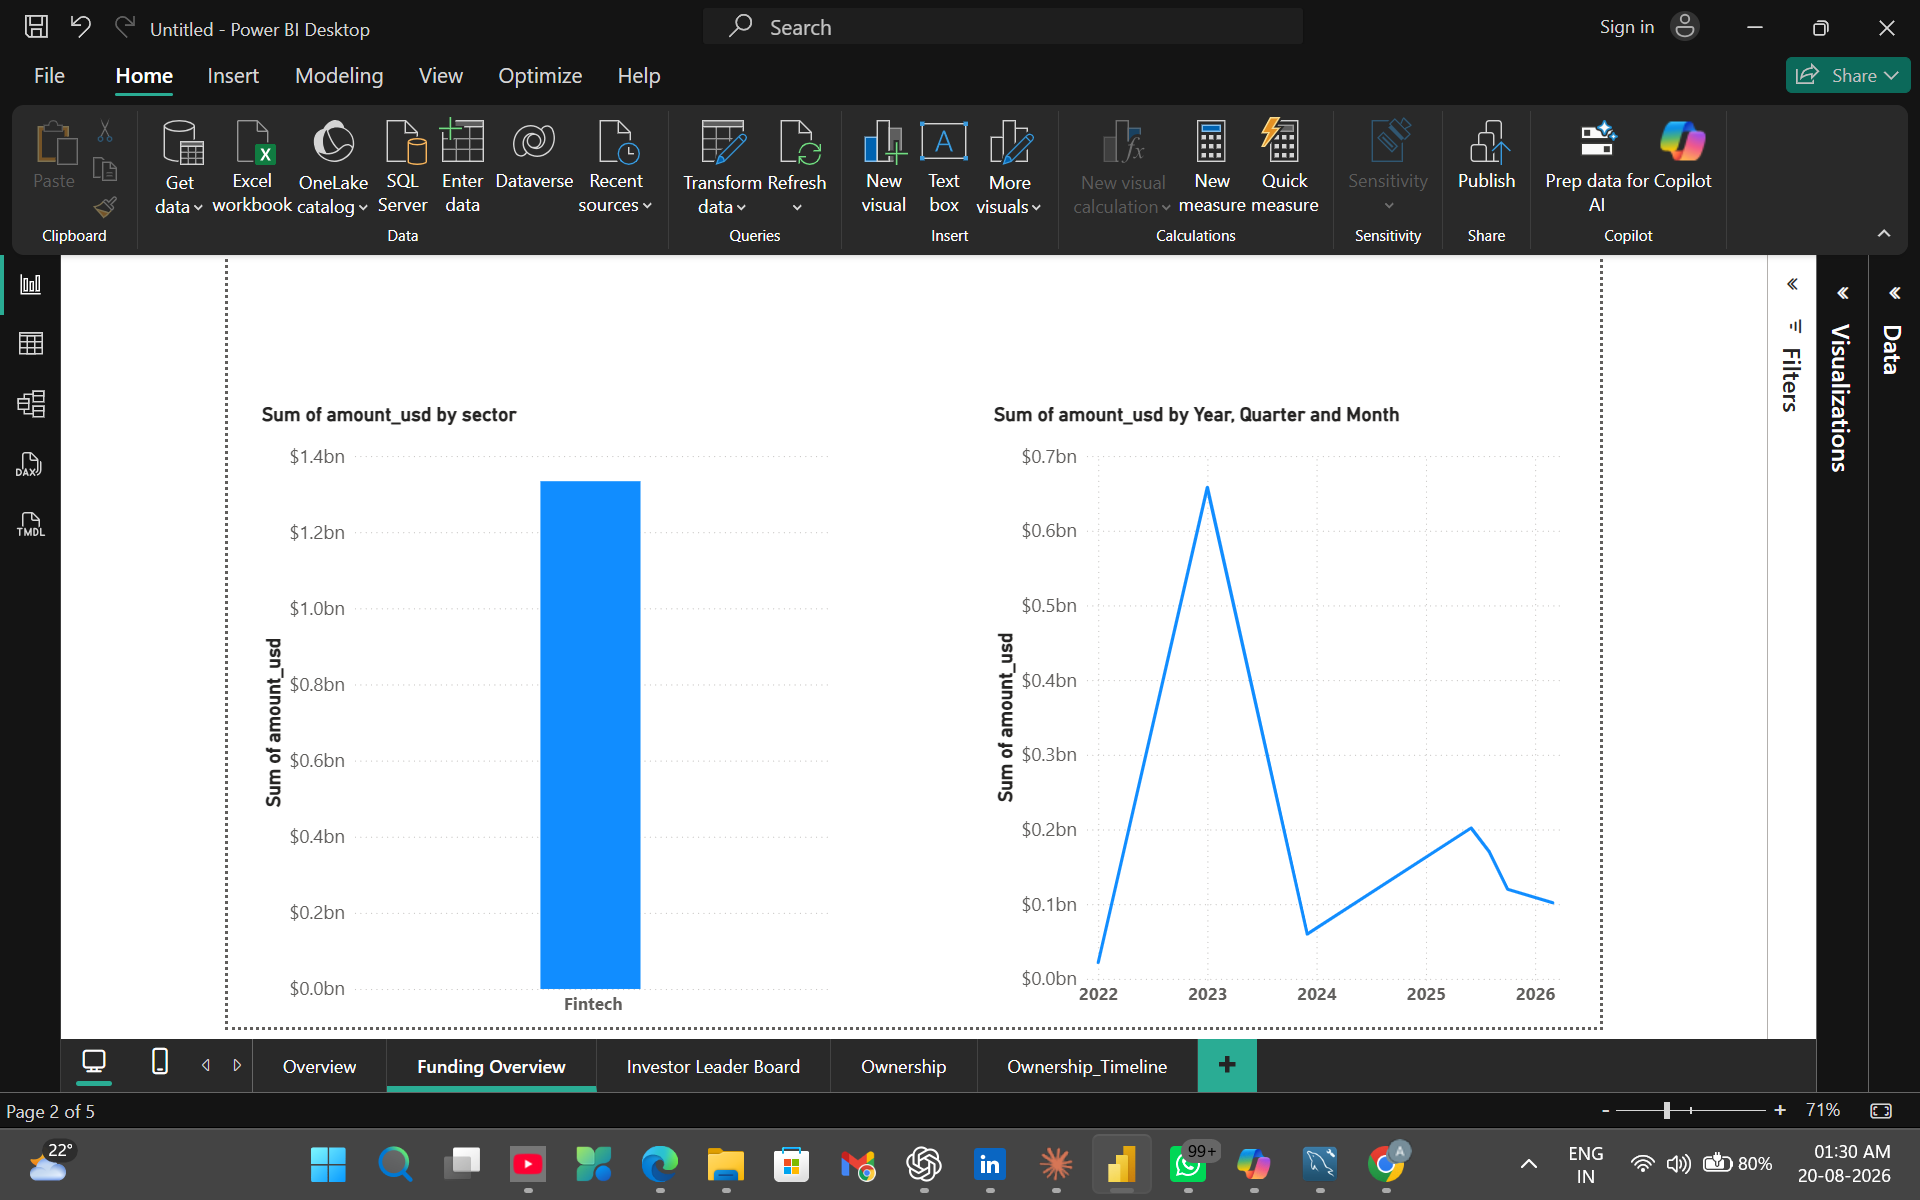

The dashboard page shown, as its layout file describes it:
{"tool":"powerbi","page":{"name":"Funding Overview","canvas":[1280,720],"ordinal":1},"visuals":[{"type":"clusteredColumnChart","fields":{"Category":["private_markets_intel companies.sector"],"Y":["Sum(private_markets_intel funding_rounds.amount_usd)"]},"box":[26.5,138,540.5,582.1],"z":0},{"type":"lineChart","fields":{"Y":["Sum(private_markets_intel funding_rounds.amount_usd)"],"Category":["private_markets_intel funding_rounds.AnnouncedDateClean.Variation.Date Hierarchy.Year","private_markets_intel funding_rounds.AnnouncedDateClean.Variation.Date Hierarchy.Quarter","private_markets_intel funding_rounds.AnnouncedDateClean.Variation.Date Hierarchy.Month","private_markets_intel funding_rounds.AnnouncedDateClean.Variation.Date Hierarchy.Day"]},"box":[708.7,138,549.9,572.6],"z":1000}]}

Visuals, with their boxes on the page's 1280x720 design canvas (x1, y1, x2, y2). These are canvas units, not pixel positions in the 1920x1200 screenshot, which may show the page scaled, cropped or inside an application window:
clusteredColumnChart - private_markets_intel companies.sector x Sum(private_markets_intel funding_rounds.amount_usd): left=26, top=138, right=567, bottom=720
lineChart - Sum(private_markets_intel funding_rounds.amount_usd) x private_markets_intel funding_rounds.AnnouncedDateClean.Variation.Date Hierarchy.Year: left=709, top=138, right=1259, bottom=711
